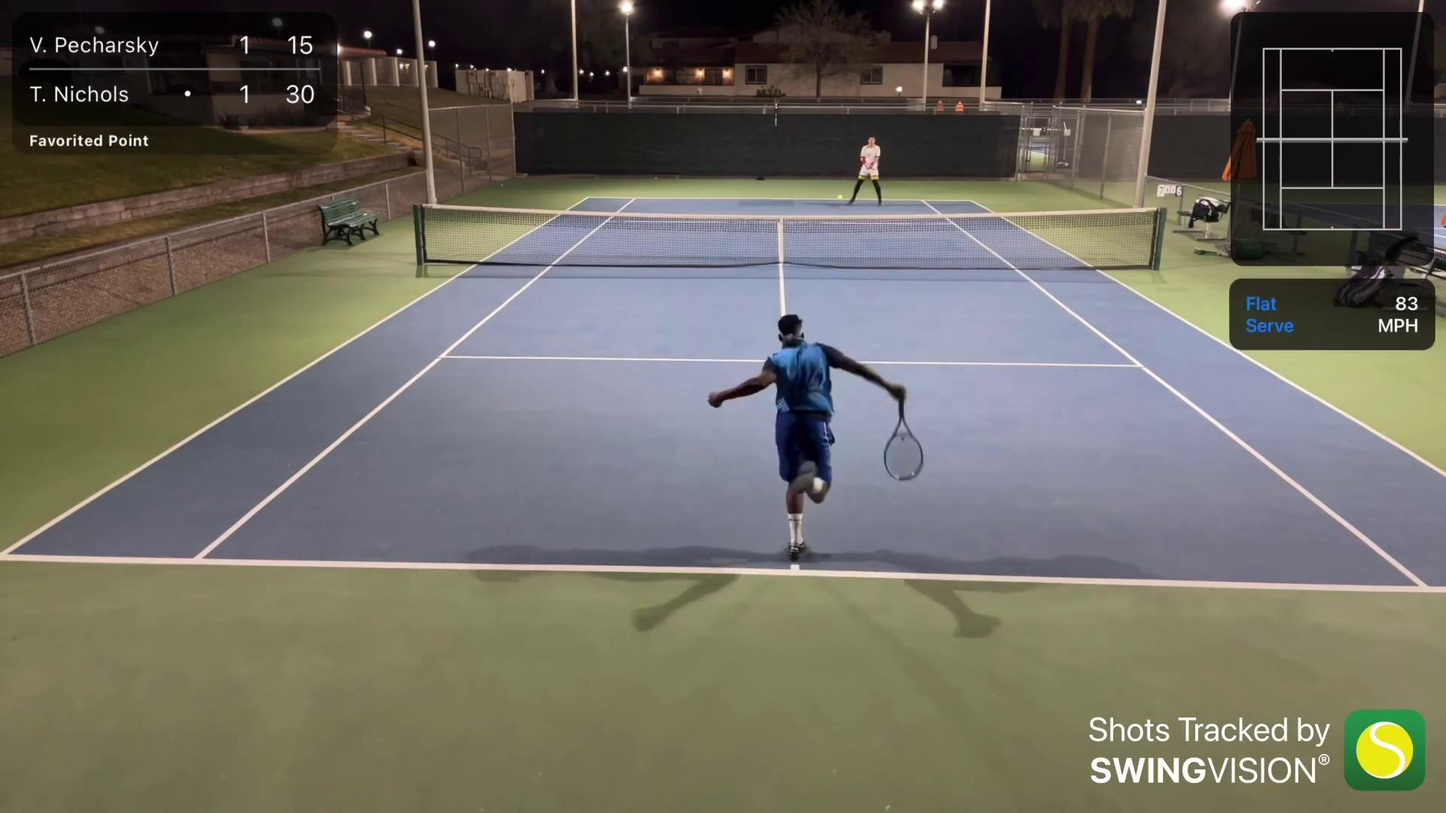ball: (836, 195, 843, 202)
